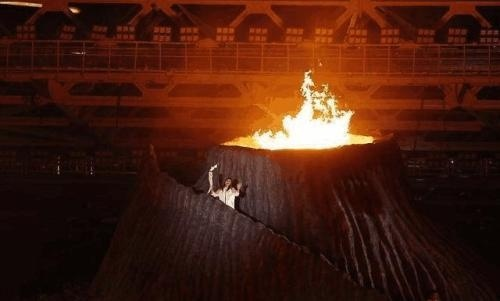fire: (259, 70, 359, 147)
